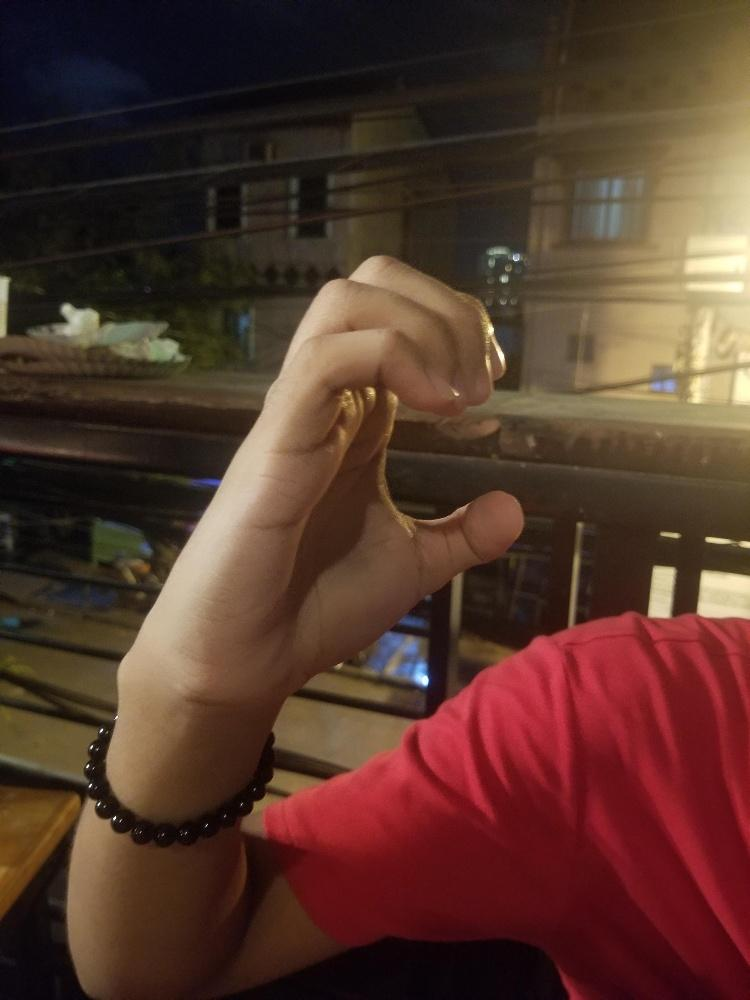c: (155, 251, 522, 686)
